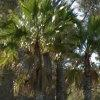Palm tree: (16, 1, 76, 95)
